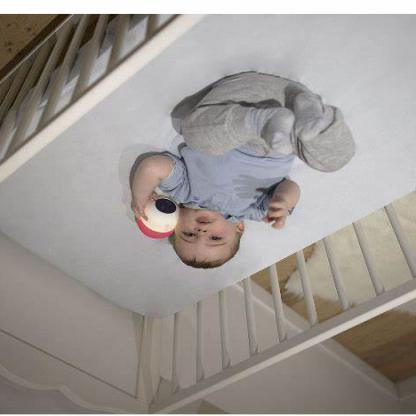baby: (119, 68, 361, 270)
